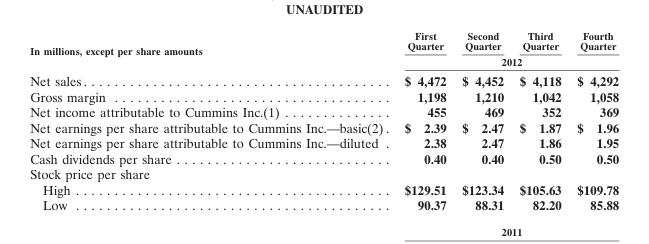table: (29, 28, 618, 212)
table column: (29, 28, 396, 212), (453, 28, 511, 212), (396, 28, 453, 212), (511, 28, 568, 212), (568, 28, 618, 212)
table column header: (29, 28, 618, 69)
table projected row header: (29, 165, 618, 181)
table row: (29, 28, 618, 53), (29, 69, 618, 88), (29, 53, 618, 69), (29, 103, 618, 119), (29, 134, 618, 150), (29, 165, 618, 181), (29, 196, 618, 212), (29, 88, 618, 103), (29, 119, 618, 134), (29, 150, 618, 165), (29, 181, 618, 196)
table spanning cell: (29, 28, 396, 69), (396, 53, 618, 69)
